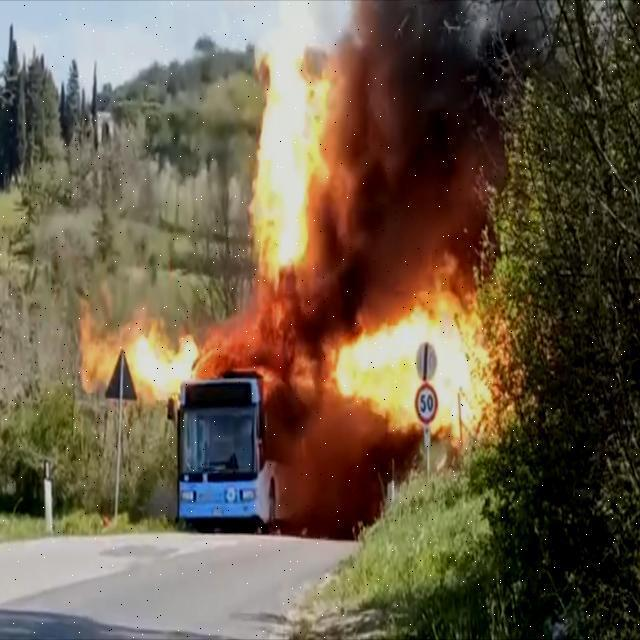smoke: (356, 22, 500, 294), (286, 425, 417, 519)
